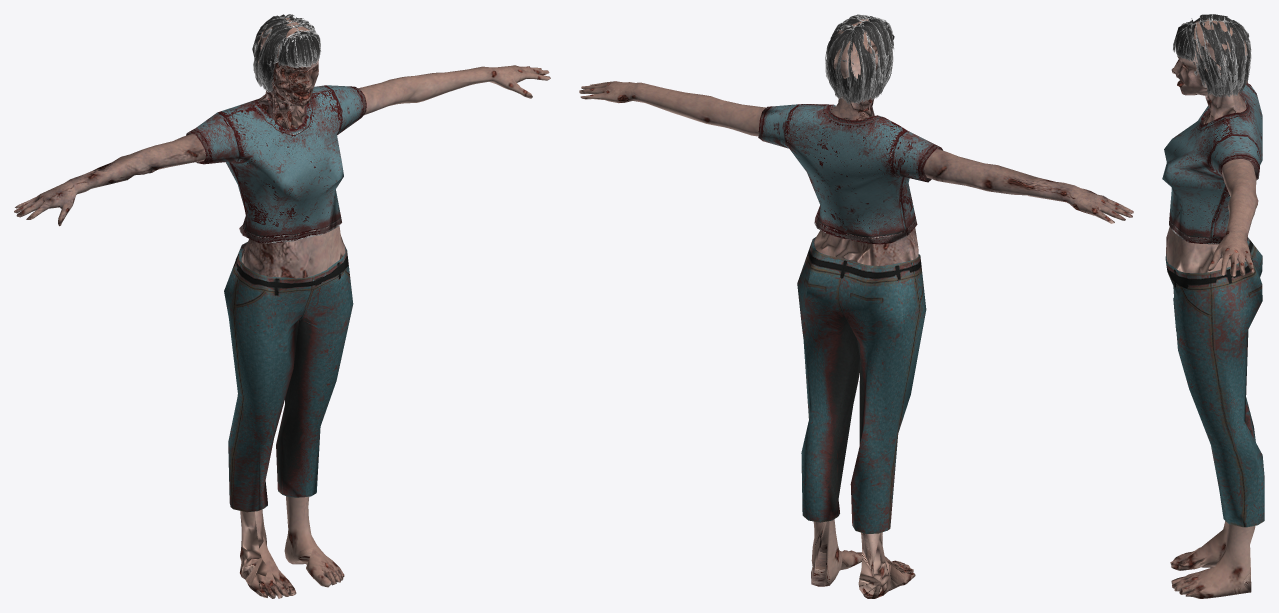
Rendered from Zombie Girl 1.fbx.
3 renders of one model, left to right at view 1: azimuth 30°, elevation 25°; view 2: azimuth 150°, elevation 25°; view 3: azimuth 270°, elevation 25°, orthographic.
Parts seen in each view (by area): view 1: Body, Head, R_Arm, L_Arm; view 2: Body, Head, R_Arm, L_Arm; view 3: Body, Head, L_Arm.
Boxes of the visible parts, x1,y1,x2,y2 form: Body: (186,85,366,598); Head: (252,14,321,111); R_Arm: (14,134,205,226); L_Arm: (358,65,550,115); Body: (758,104,942,598); Head: (825,14,894,113); R_Arm: (924,149,1133,223); L_Arm: (579,81,765,136); Body: (1162,83,1264,598); Head: (1171,14,1251,111); L_Arm: (1207,159,1258,276).
Bounding box in the file's own units: 180 × 178 × 29.43.
4 materials, 4 textured.
